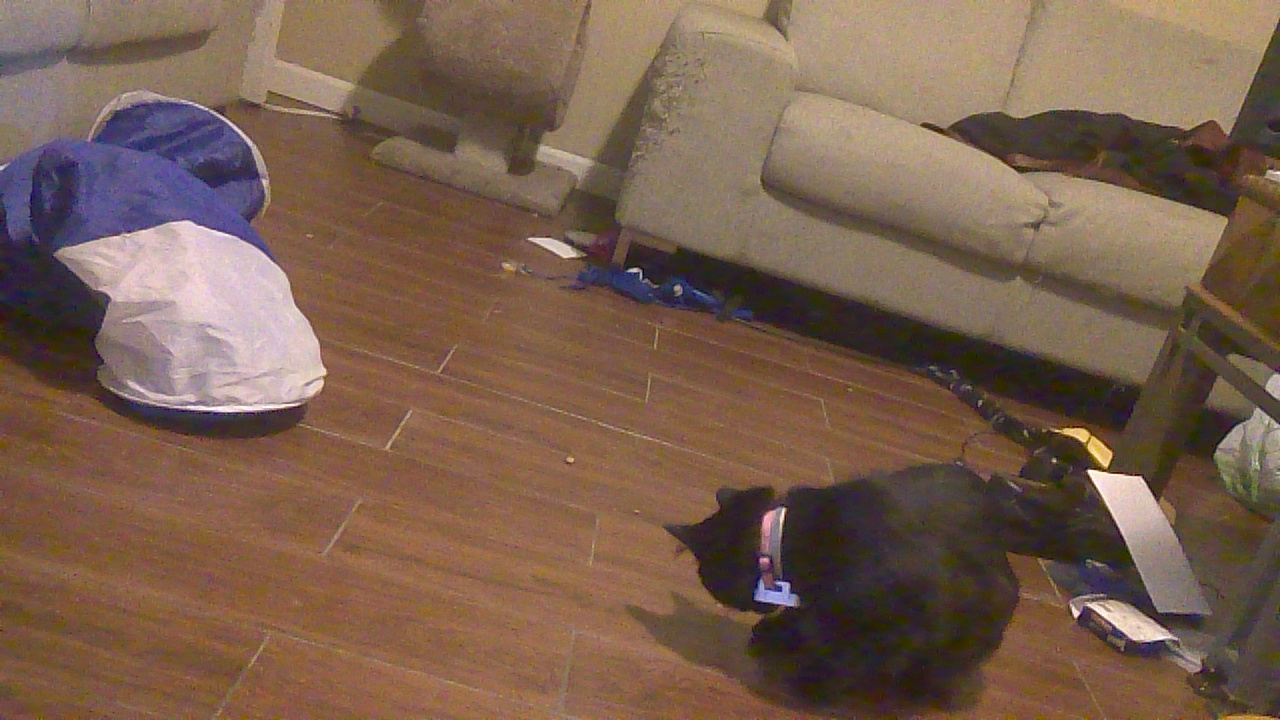cat: (673, 454, 1021, 709)
